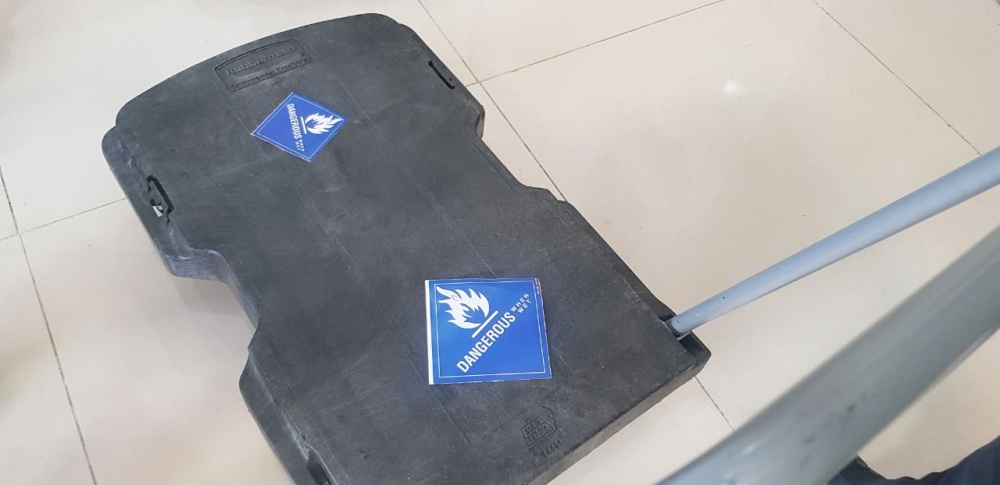Dangerous when wet: (424, 277, 552, 385), (251, 91, 348, 162)
